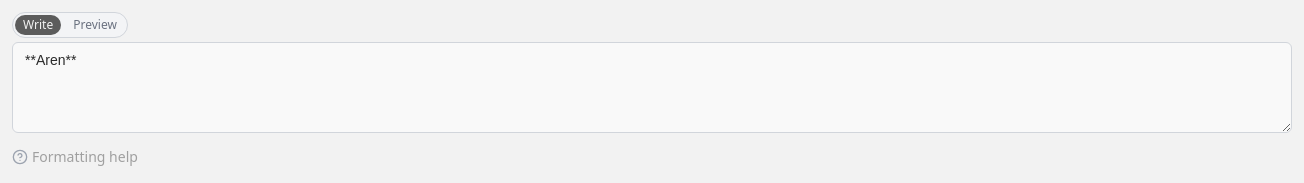
Test: BaseMarkdownField › switches to a markdown preview without touching the value
Step 1. Click the button with class "field-tab" showing "Preview" → {"x": 95, "y": 25}, box [65,15,125,35]
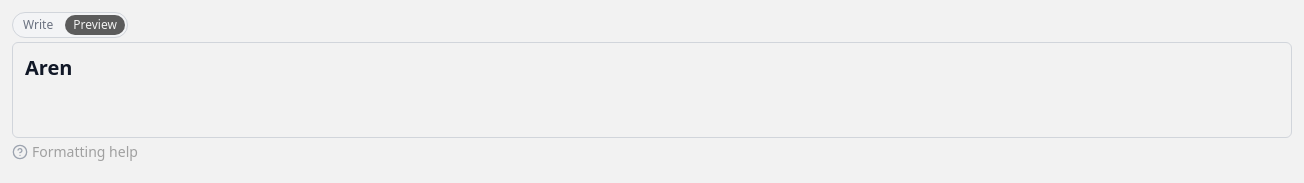
Expected: the text "Aren" is shown, [25,54,72,81]
